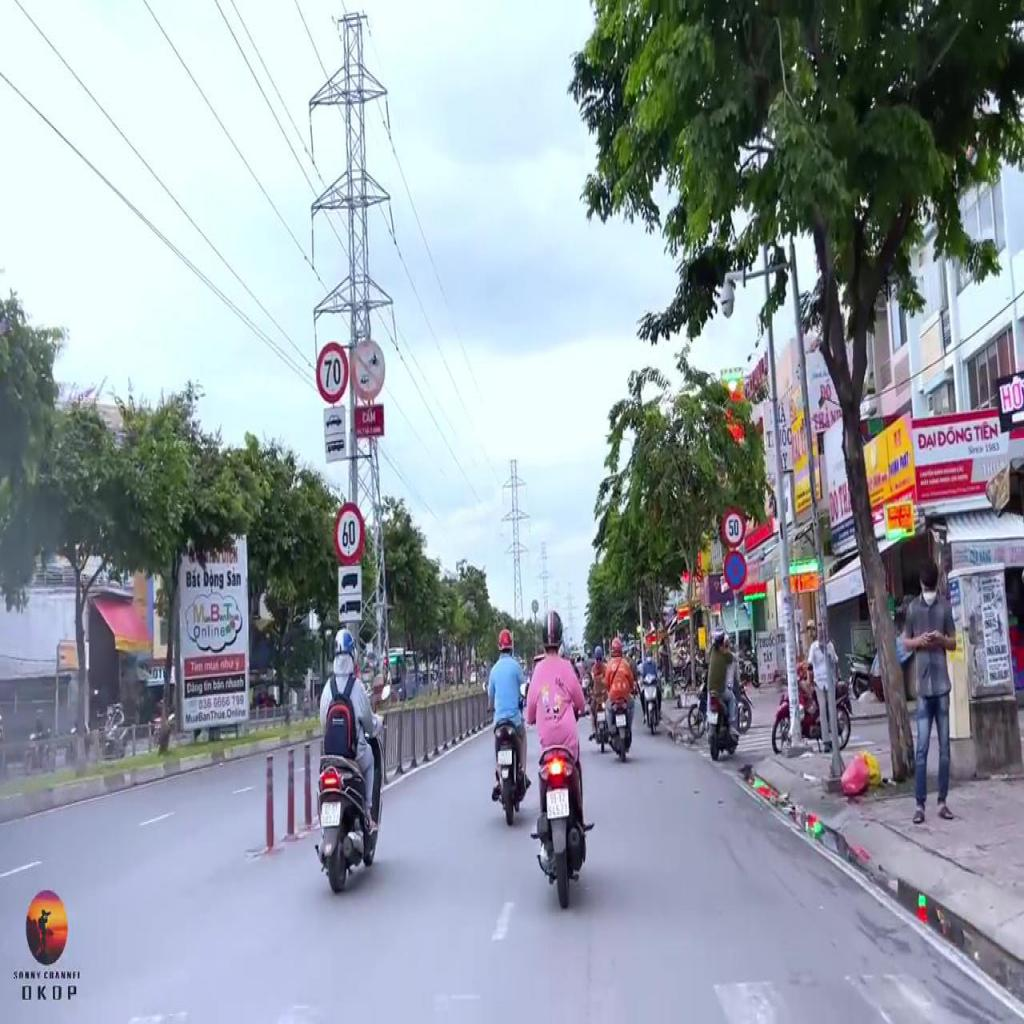cam_dung_xe_va_do_xe: (724, 549, 747, 592)
cam_xe_2_banh_va_xe_3_banh_co_dong_co: (350, 340, 384, 400)
khac: (316, 341, 349, 404), (339, 594, 362, 623), (338, 566, 360, 595), (324, 434, 346, 462), (324, 407, 345, 434)
toc_do_toi_da_50: (722, 506, 746, 548)
toc_do_toi_da_60: (332, 504, 366, 563)
